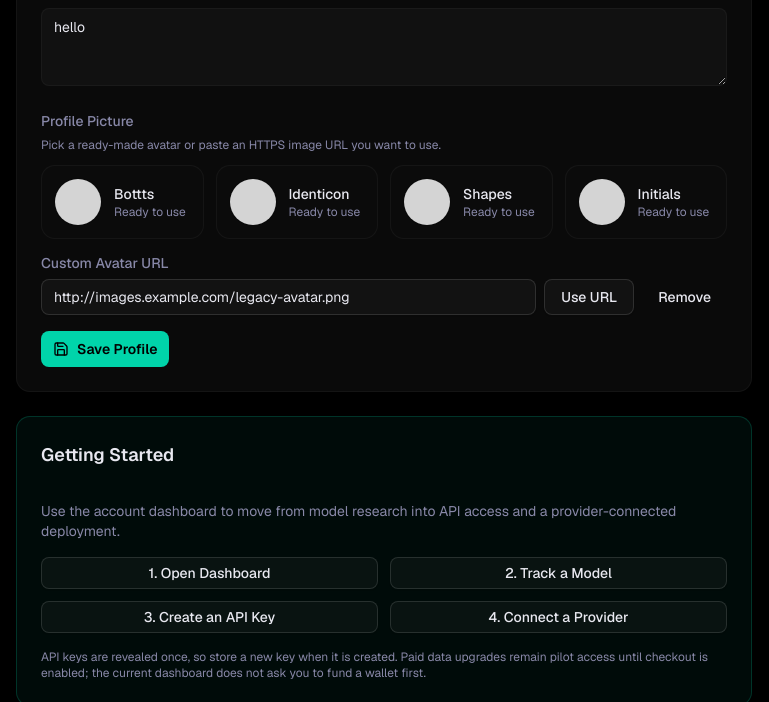
Test: ProfileContent › blocks saving a legacy insecure avatar url until it is fixed or removed
The image size is (769, 702).
(page scrolled)
Click the button "Save Profile": x=105, y=349 [41, 331, 170, 367]
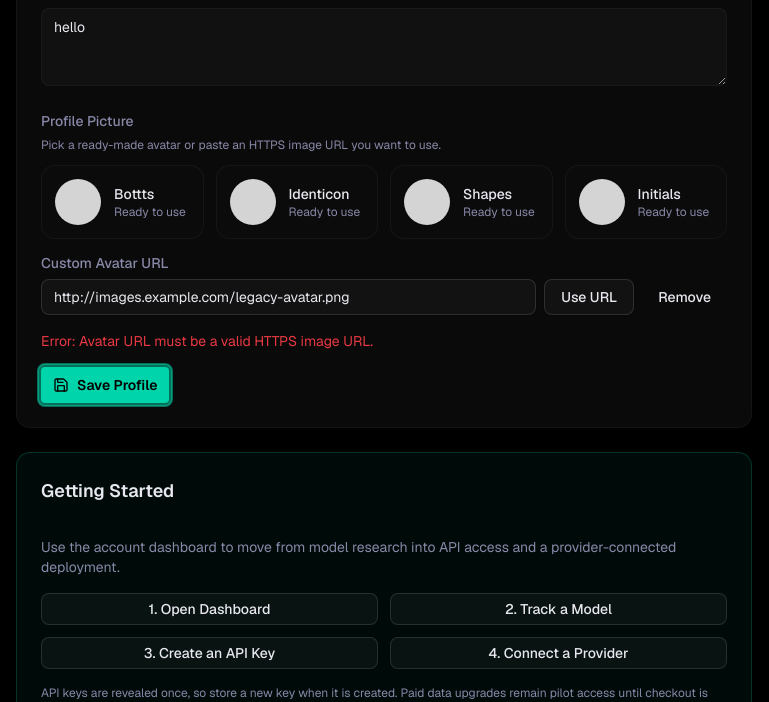
Expected: the text "Error: Avatar URL must be a valid HTTPS image URL." is shown, [41, 332, 373, 350]
